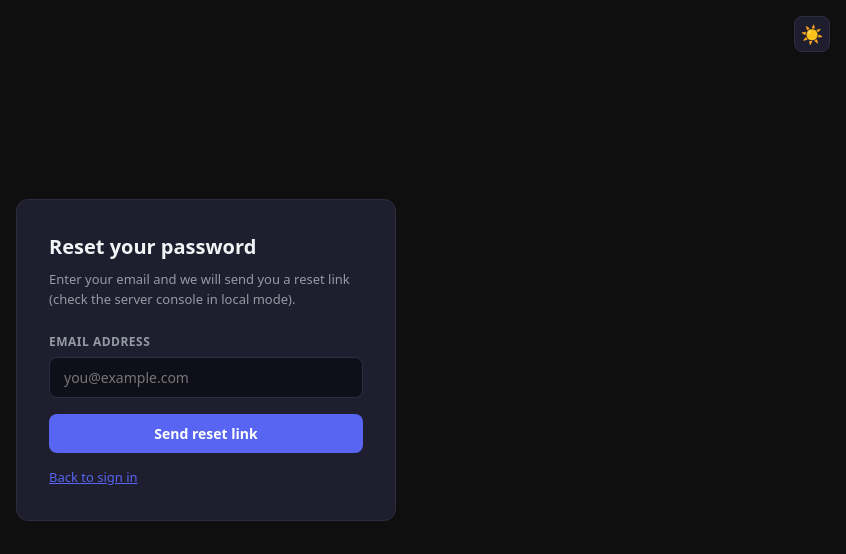
Test: shows server error on failed request
Step 1. Type "x@y.com" into the field with test id "fp-email" → (206, 378), box [49, 357, 363, 398]
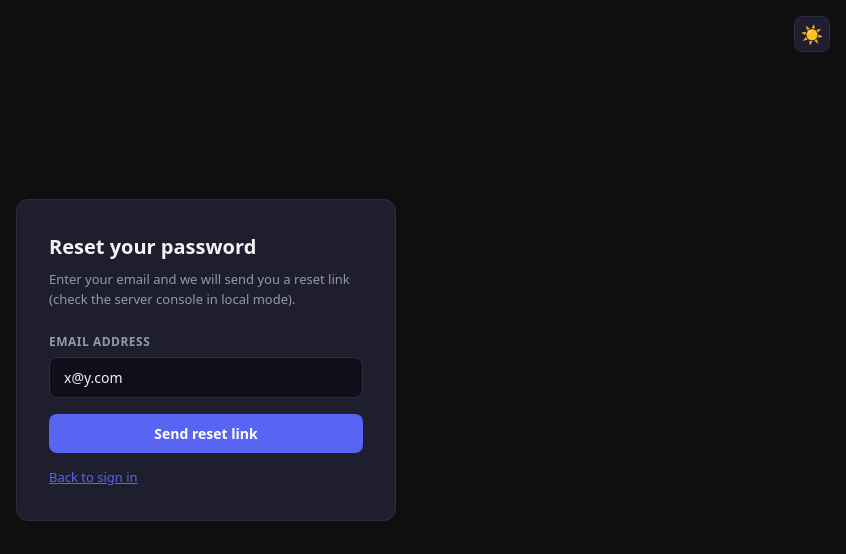
Step 2. Click the button with test id "fp-submit" → (206, 434), box [49, 414, 363, 453]
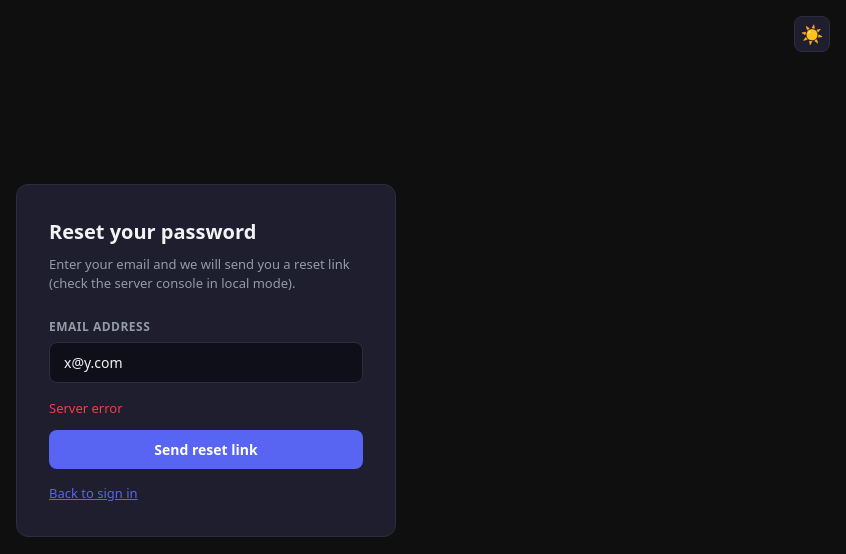
Expected: the text "Server error" is shown, [49, 398, 123, 416]
